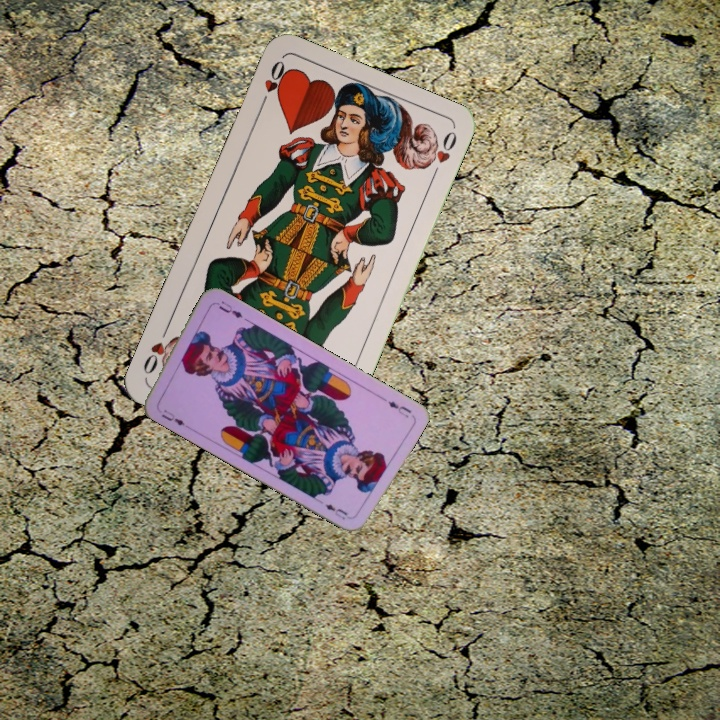EU: (157, 405, 187, 428), (384, 397, 414, 420)
HO: (256, 56, 290, 112)
